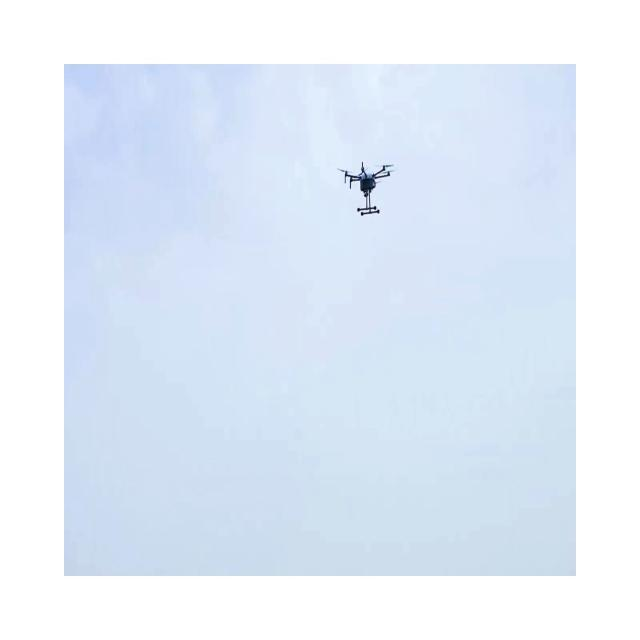drone: (336, 161, 396, 216)
